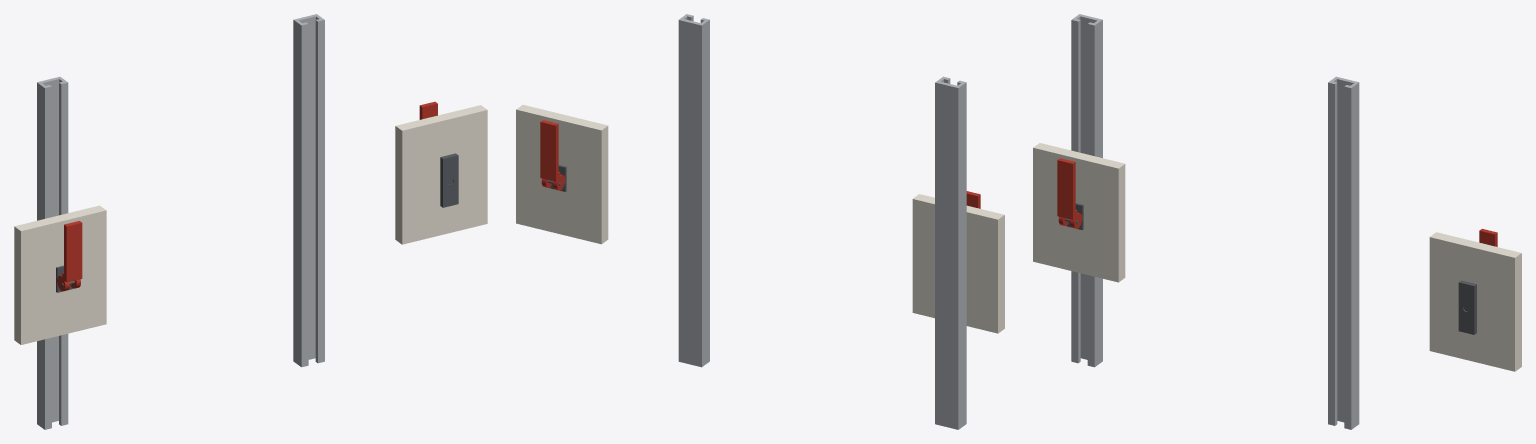
File: 2-4_cam_clamp.glb
3 views of the same model, side by side, from view 1: azimuth 30°, elevation 25°; view 2: azimuth 150°, elevation 25°; view 3: azimuth 330°, elevation 25° (orthographic).
Visible parts, largest first — view 1: opened/leg_rail_t_slot, opened/box_side_wall, assembled/box_side_wall, assembled/leg_rail_t_slot, assembled/cam_lever, opened/t_nut; view 2: assembled/leg_rail_t_slot, opened/leg_rail_t_slot, opened/box_side_wall, assembled/box_side_wall, opened/cam_lever; view 3: opened/leg_rail_t_slot, opened/box_side_wall, assembled/box_side_wall, assembled/leg_rail_t_slot, assembled/cam_lever, opened/t_nut.
Boxes of the visible parts, <box> form: opened/leg_rail_t_slot: <box>293,14,324,367</box>; opened/box_side_wall: <box>395,105,487,244</box>; assembled/box_side_wall: <box>14,205,106,344</box>; assembled/leg_rail_t_slot: <box>37,76,68,429</box>; assembled/cam_lever: <box>57,221,82,291</box>; opened/t_nut: <box>440,153,458,207</box>; assembled/leg_rail_t_slot: <box>935,76,966,429</box>; opened/leg_rail_t_slot: <box>678,14,709,367</box>; opened/box_side_wall: <box>516,105,608,244</box>; assembled/box_side_wall: <box>912,194,1004,333</box>; opened/cam_lever: <box>540,120,565,190</box>; opened/leg_rail_t_slot: <box>1328,76,1359,429</box>; opened/box_side_wall: <box>1429,232,1521,371</box>; assembled/box_side_wall: <box>1033,143,1125,282</box>; assembled/leg_rail_t_slot: <box>1071,14,1102,367</box>; assembled/cam_lever: <box>1057,158,1082,228</box>; opened/t_nut: <box>1458,280,1476,334</box>.
Bounding box in the file's own units: 0.61 × 0.42 × 0.08.
